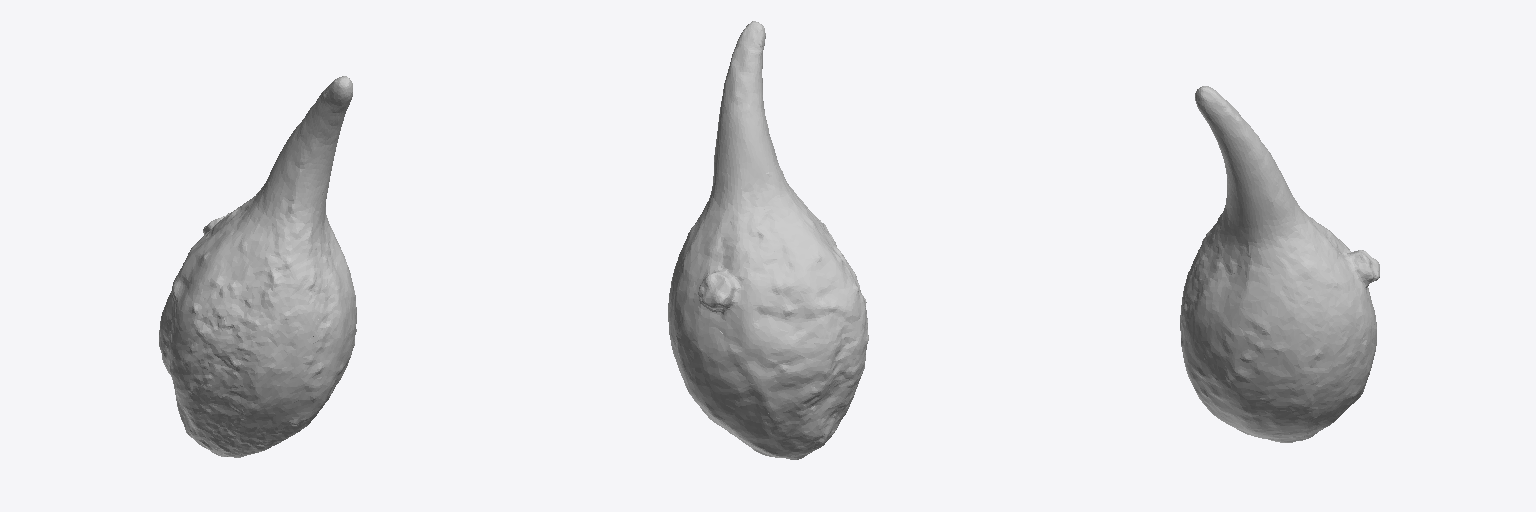
File: HochetCourgeFlipped.obj
3 renders of one model, left to right at view 1: azimuth 30°, elevation 25°; view 2: azimuth 150°, elevation 25°; view 3: azimuth 270°, elevation 25°, orthographic.
Visible parts, largest first — view 1: gourd; view 2: gourd; view 3: gourd.
Part boxes in pixels (x1,y1,x2,y2): gourd: (159, 76, 356, 457); gourd: (668, 21, 868, 459); gourd: (1180, 86, 1379, 442).
Bounding box in the file's own units: 4.95 × 10.5 × 4.92.